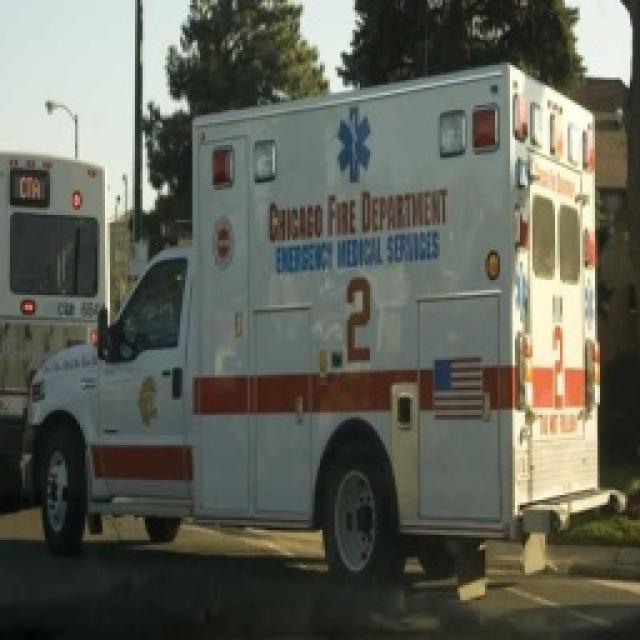emergency-vehicle: (10, 62, 640, 578)
